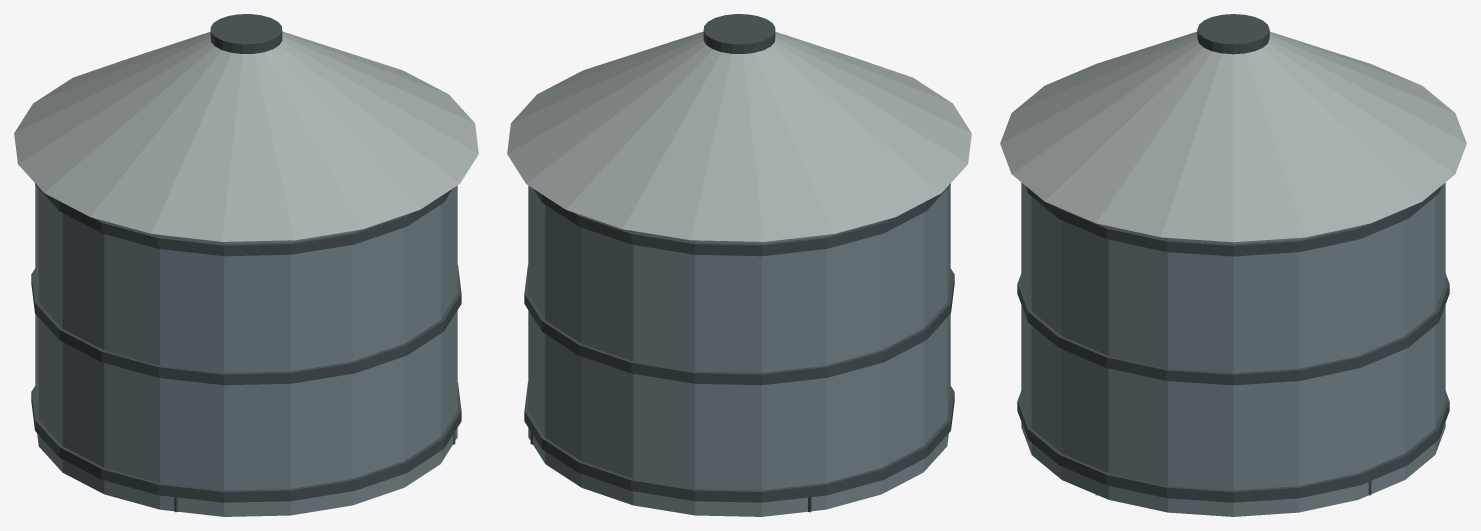
File: refined-roof-tank.glb
3 renders of one model, left to right at view 1: azimuth 30°, elevation 25°; view 2: azimuth 150°, elevation 25°; view 3: azimuth 270°, elevation 25°, orthographic.
Parts seen in each view (by area): view 1: refined-roof-tank-material-0, refined-roof-tank-material-2, refined-roof-tank-material-1; view 2: refined-roof-tank-material-0, refined-roof-tank-material-2, refined-roof-tank-material-1; view 3: refined-roof-tank-material-0, refined-roof-tank-material-2, refined-roof-tank-material-1.
Boxes of the visible parts, bbox=[...] form: refined-roof-tank-material-0: bbox=[35, 185, 457, 516]; refined-roof-tank-material-2: bbox=[14, 31, 478, 241]; refined-roof-tank-material-1: bbox=[31, 14, 461, 512]; refined-roof-tank-material-0: bbox=[528, 185, 950, 516]; refined-roof-tank-material-2: bbox=[507, 31, 971, 241]; refined-roof-tank-material-1: bbox=[524, 14, 954, 512]; refined-roof-tank-material-0: bbox=[1021, 182, 1445, 516]; refined-roof-tank-material-2: bbox=[1000, 31, 1466, 242]; refined-roof-tank-material-1: bbox=[1017, 14, 1449, 502].
Size of the model in its own units: 2.2 by 2.07 by 2.2.
